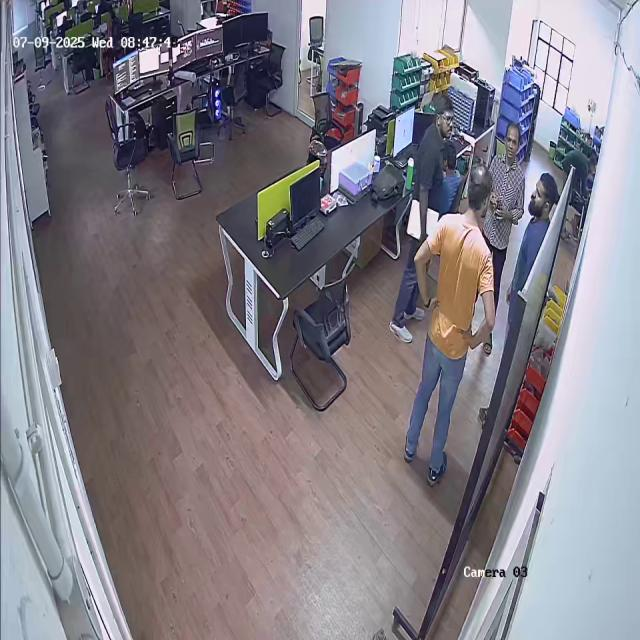person: (415, 165, 497, 482), (407, 97, 454, 215), (520, 173, 572, 257), (489, 122, 526, 232)
